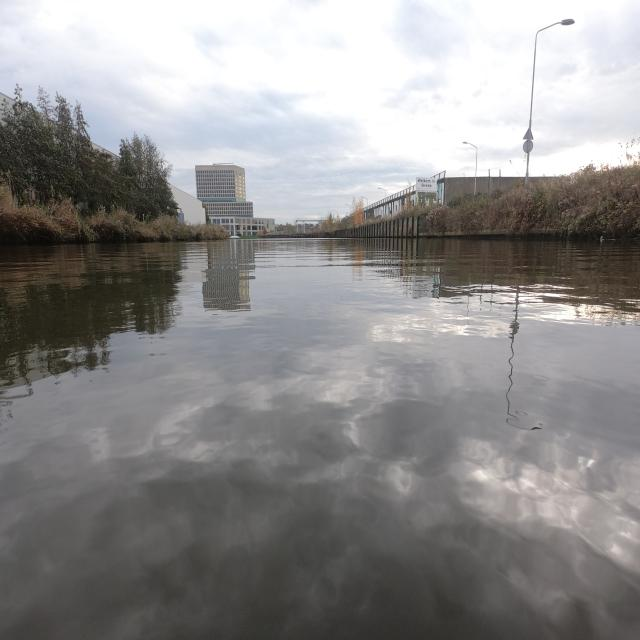reed: (423, 153, 640, 239), (0, 183, 227, 244)
tree: (0, 88, 176, 220)
wall: (332, 216, 420, 239)
water: (0, 236, 640, 640)
